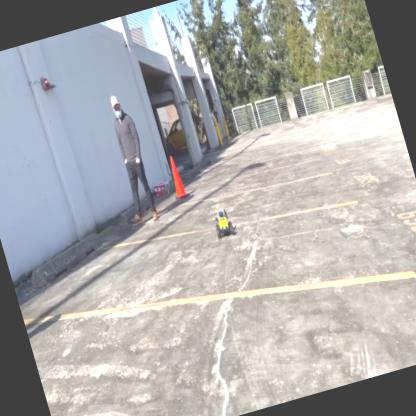cone: (162, 150, 190, 198)
mushr_car: (209, 203, 238, 242)
